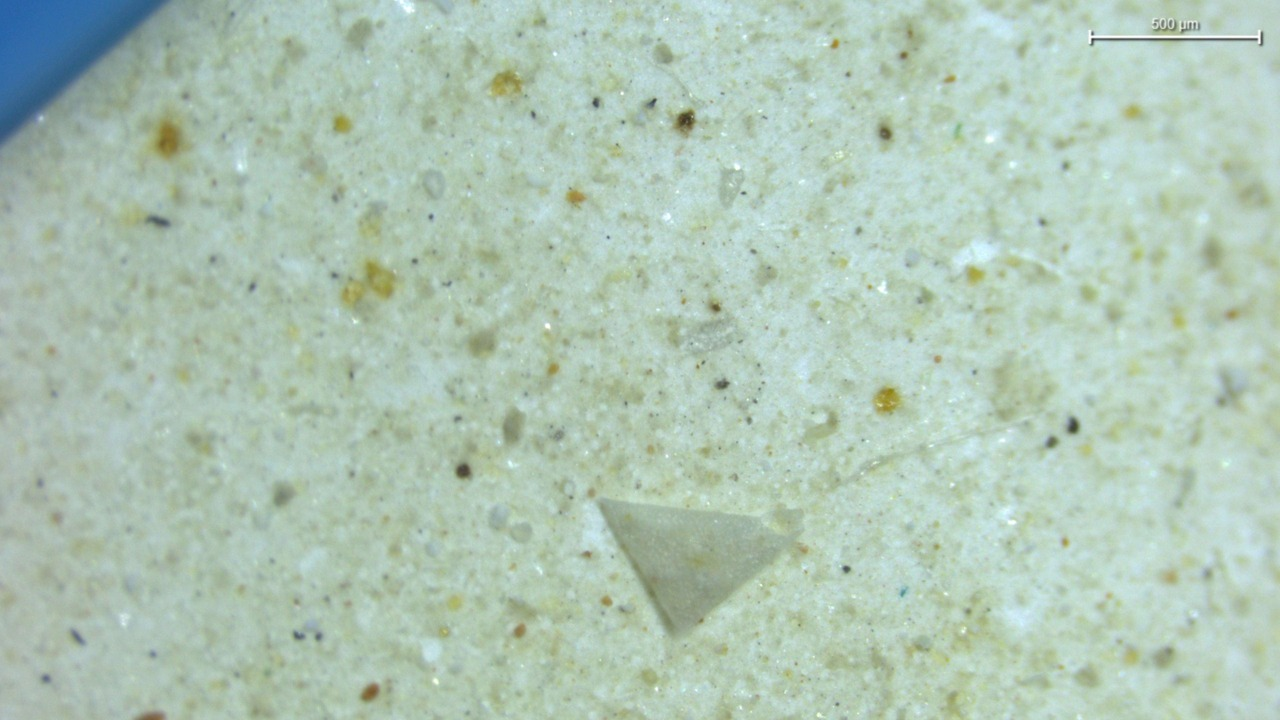microplastic_fragment: (598, 498, 793, 634), (682, 315, 742, 353), (718, 164, 745, 207), (421, 169, 445, 199), (489, 504, 509, 529), (510, 522, 532, 542)
